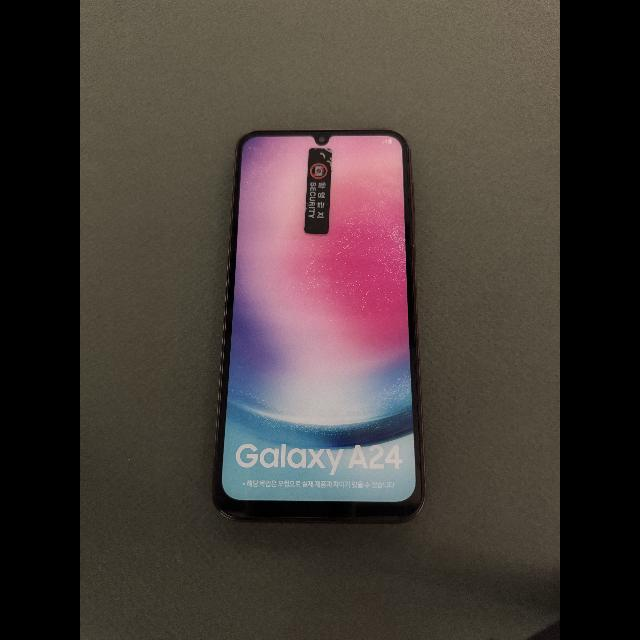lens: (318, 135, 325, 143)
phone: (214, 129, 425, 523)
sticker: (304, 148, 332, 235)
